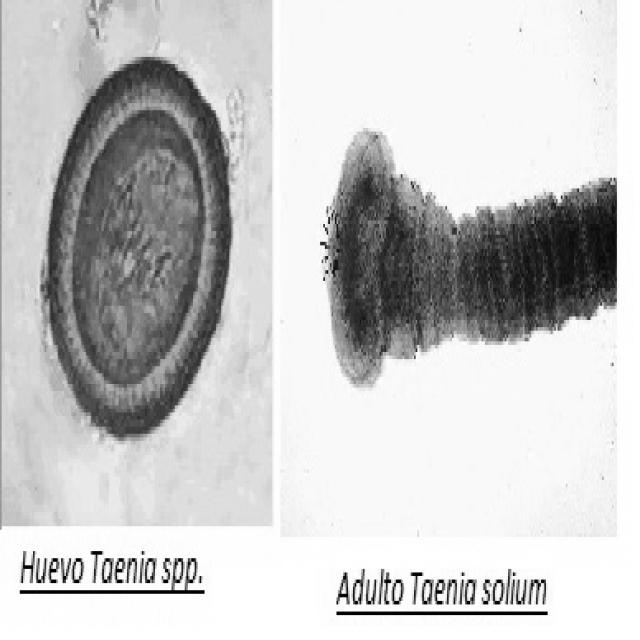Taenia Sp: (40, 39, 240, 455)
